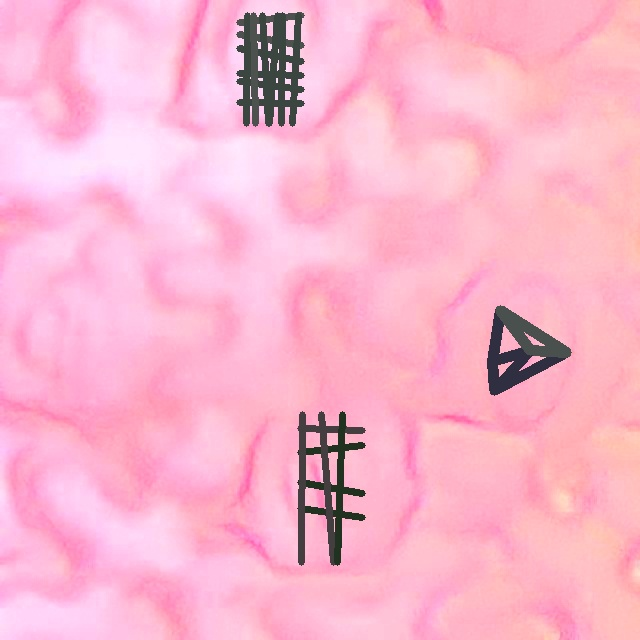close: (236, 12, 304, 126), (488, 305, 571, 395)
open: (297, 412, 365, 564)
